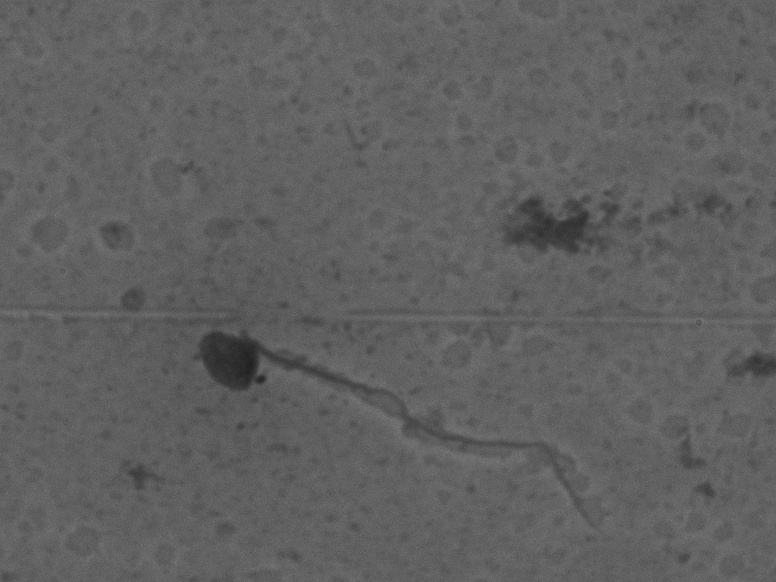Abnormal: (172, 312, 631, 536)
